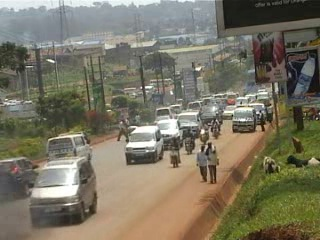Car: (0, 154, 44, 198), (124, 124, 165, 166), (155, 117, 185, 148), (200, 101, 225, 128), (150, 111, 176, 128), (219, 101, 236, 120)
Motorcycle: (166, 133, 182, 168), (183, 125, 196, 157), (209, 114, 222, 140), (197, 120, 209, 143), (124, 120, 138, 134)
